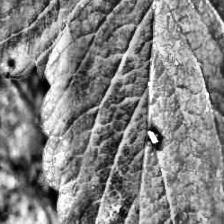Leaf Spot: (38, 0, 224, 224), (0, 0, 112, 83), (183, 0, 224, 101)
